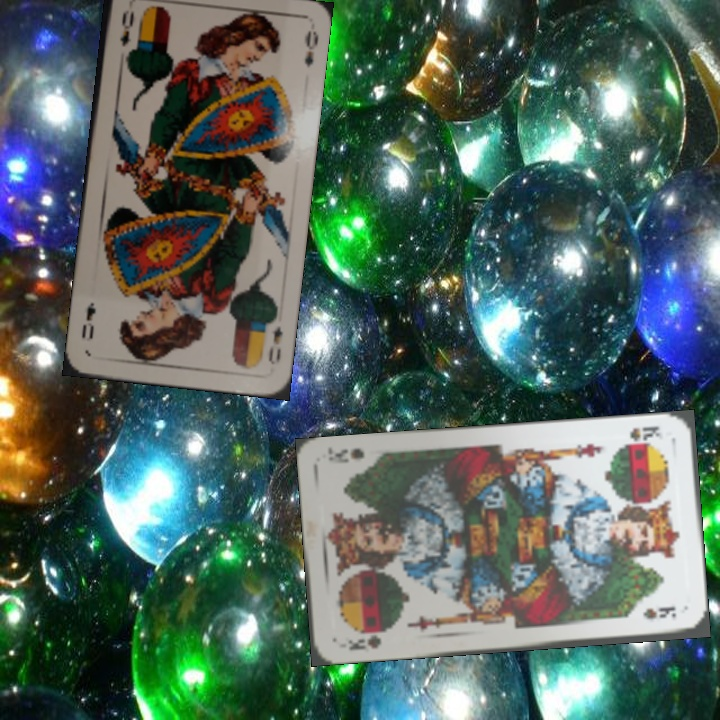EO: (261, 313, 285, 367), (116, 6, 137, 50)
SK: (344, 631, 384, 653), (625, 422, 663, 444)
